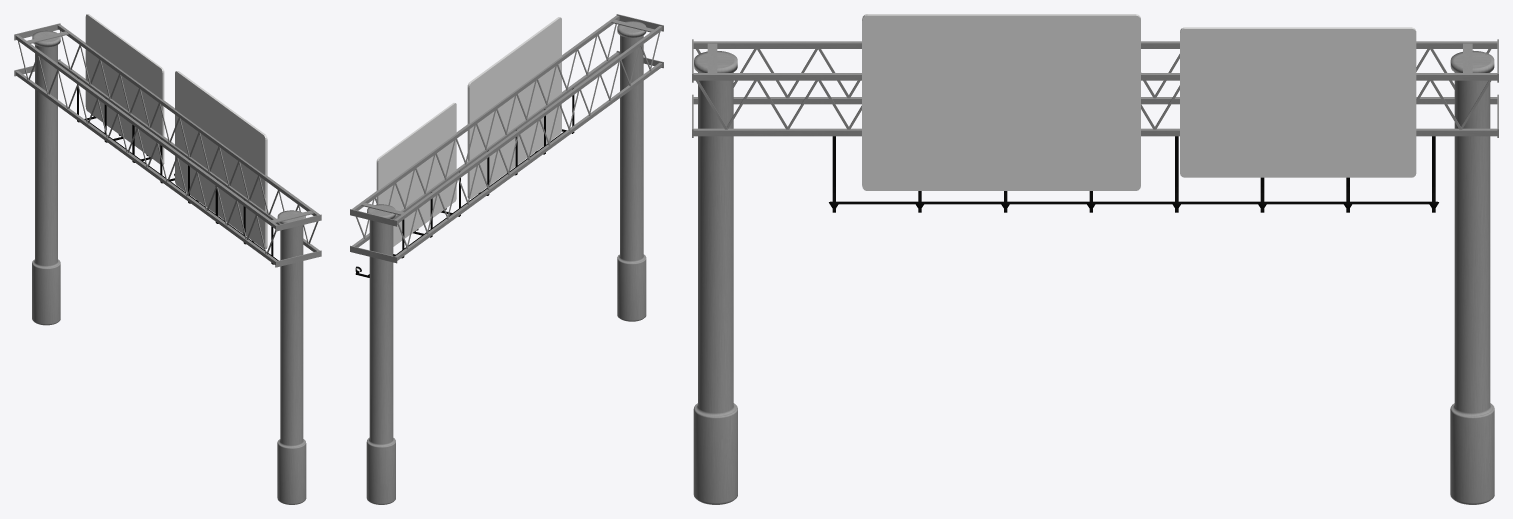
The model's file is uploads_files_3152711_HighwaySignBoard_Up_Right2.fbx.
The picture shows the model from 3 angles, left to right: view 1: azimuth 30°, elevation 25°; view 2: azimuth 150°, elevation 25°; view 3: azimuth 270°, elevation 25°; orthographic projection. The views are drawn at different scales.
Visible parts, largest first — view 1: Cylinder.000, Cube, Cube.005; view 2: Cylinder.000, Cube, Cube.005; view 3: Cube, Cylinder.000, Cube.005.
Boxes of the visible parts, x1,y1,x2,y2 form: Cylinder.000: [14, 23, 321, 504]; Cube: [175, 71, 267, 248]; Cube.005: [85, 14, 164, 164]; Cylinder.000: [350, 14, 663, 504]; Cube: [467, 17, 561, 198]; Cube.005: [376, 103, 456, 246]; Cube: [862, 14, 1140, 190]; Cylinder.000: [692, 39, 1498, 504]; Cube.005: [1180, 27, 1416, 177].
Size of the model in its own units: 997 by 135 by 679.
5 materials, 1 textured.
